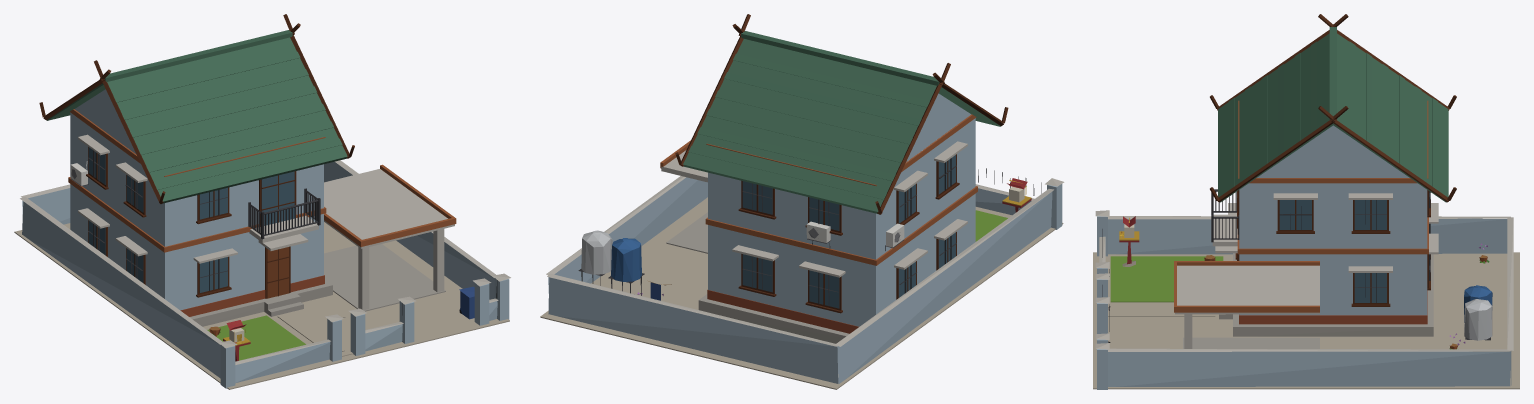
The model's file is house12_2.glb.
The picture shows the model from 3 angles, left to right: view 1: azimuth 30°, elevation 25°; view 2: azimuth 150°, elevation 25°; view 3: azimuth 270°, elevation 25°; orthographic projection. The views are drawn at different scales.
Visible parts, largest first — view 1: body, windows; view 2: body, windows; view 3: body, windows.
Part boxes in pixels (x1=…): body: x1=14, y1=14, x2=510, y2=389; windows: x1=89, y1=147, x2=294, y2=292; body: x1=540, y1=14, x2=1064, y2=389; windows: x1=742, y1=155, x2=955, y2=308; body: x1=1093, y1=14, x2=1519, y2=389; windows: x1=1279, y1=200, x2=1386, y2=302.
Size of the model in its own units: 12.44 by 10.02 by 15.9.
